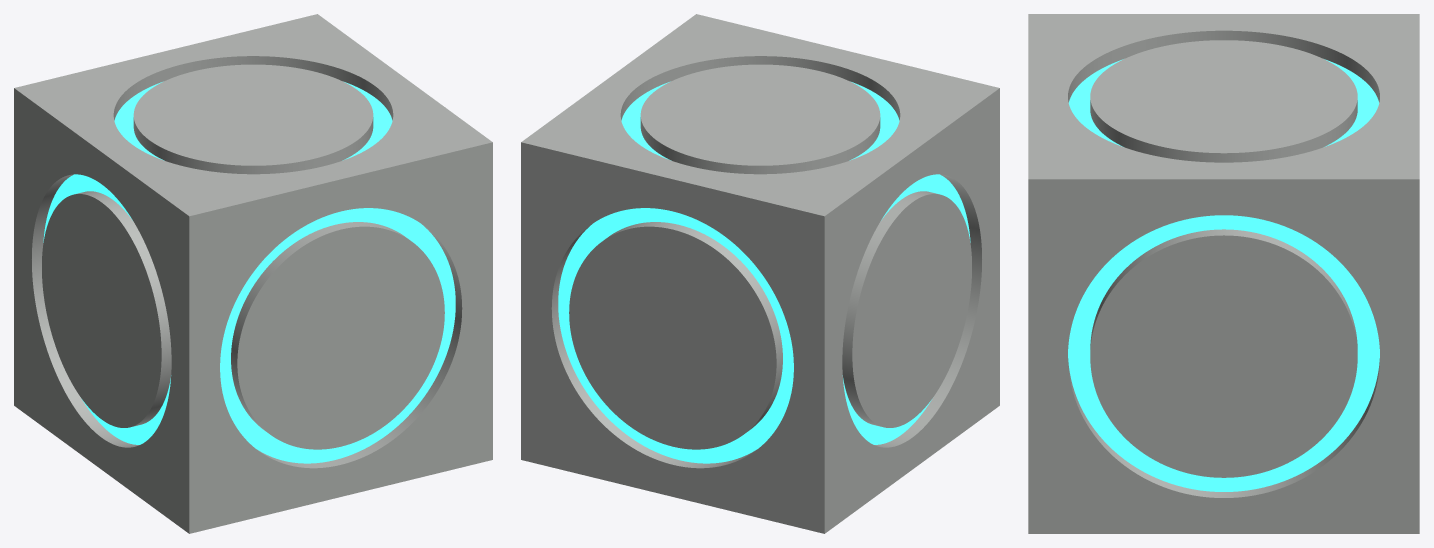
File: cube_rough.FBX
3 views of the same model, side by side, from view 1: azimuth 30°, elevation 25°; view 2: azimuth 150°, elevation 25°; view 3: azimuth 270°, elevation 25° (orthographic). The views are drawn at different scales.
Visible parts, largest first — view 1: Box001; view 2: Box001; view 3: Box001.
Part boxes in pixels (left/top/right/bottom): Box001: left=14, top=14, right=492, bottom=533; Box001: left=521, top=14, right=999, bottom=533; Box001: left=1028, top=14, right=1419, bottom=533.
Size of the model in its own units: 0.4 by 0.4 by 0.4.
